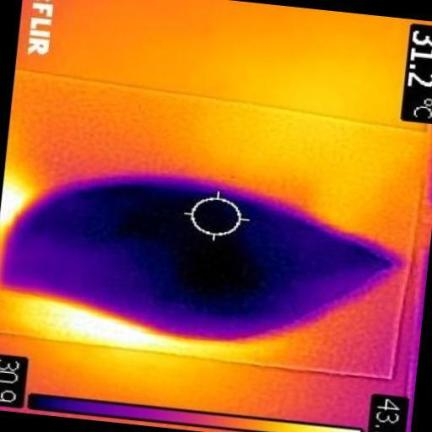mango: (1, 177, 395, 339)
